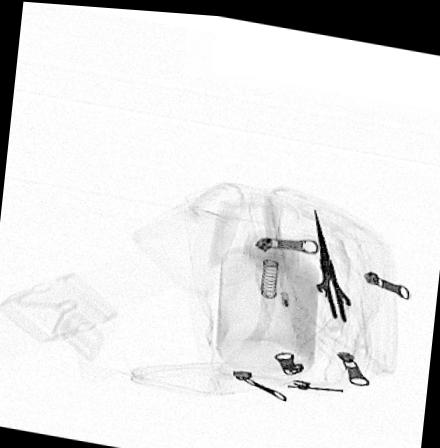Scissors: (300, 202, 375, 342)
